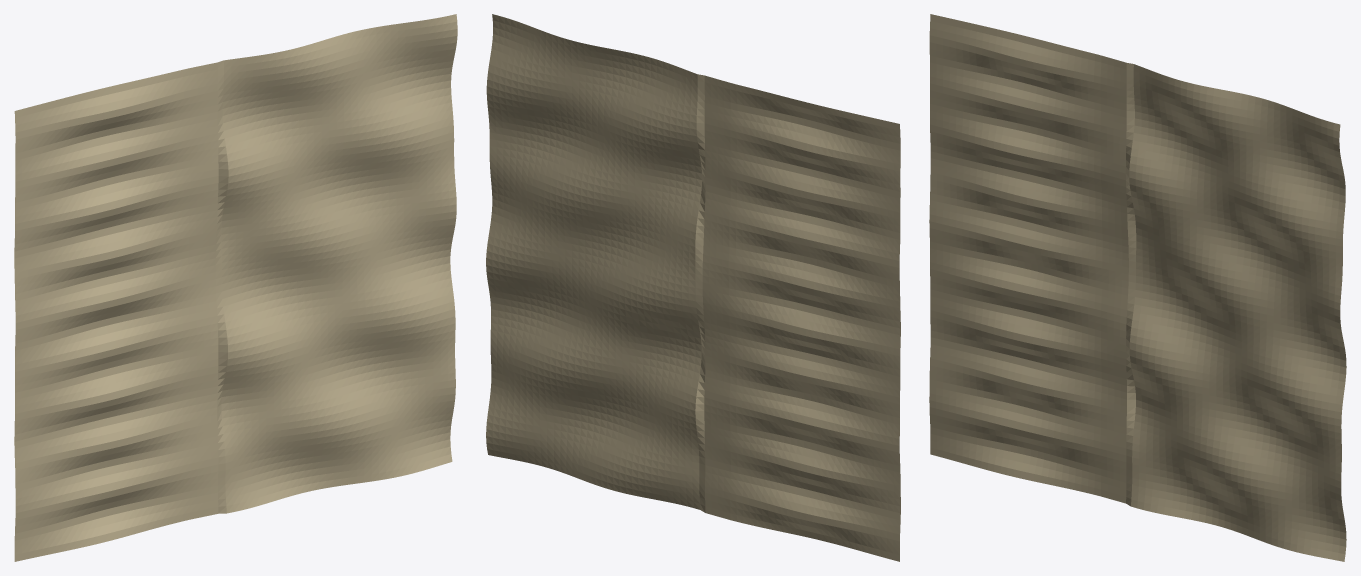
Rendered from SM_DriftwoodTerrain_Alpha.gltf.
The picture shows the model from 3 angles, left to right: view 1: azimuth 30°, elevation 25°; view 2: azimuth 150°, elevation 25°; view 3: azimuth 330°, elevation 25°; orthographic projection. The views are drawn at different scales.
Parts seen in each view (by area): view 1: SM_DriftwoodTerrain_Alpha; view 2: SM_DriftwoodTerrain_Alpha; view 3: SM_DriftwoodTerrain_Alpha.
Part boxes in pixels (<box>): SM_DriftwoodTerrain_Alpha: <box>14,14,457,561</box>; SM_DriftwoodTerrain_Alpha: <box>486,14,900,561</box>; SM_DriftwoodTerrain_Alpha: <box>929,14,1346,561</box>.
Size of the model in its own units: 100 by 100 by 5.96.
